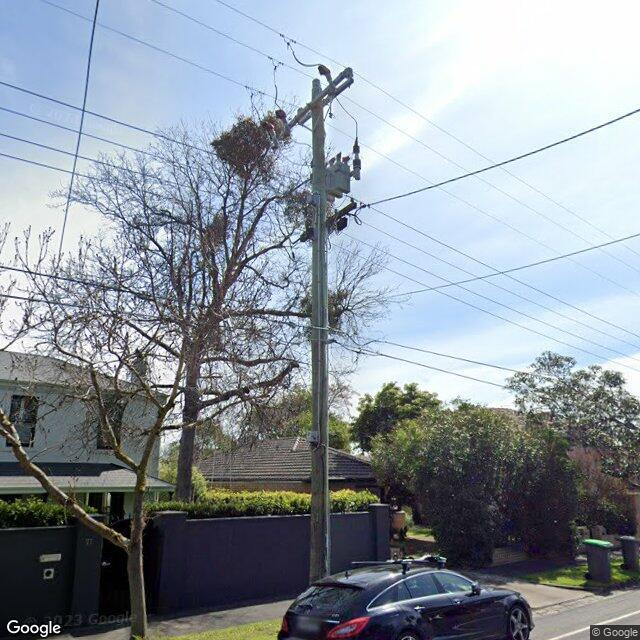HV-transmission: (284, 65, 353, 132)
crossarm: (289, 72, 344, 127), (298, 79, 354, 124), (300, 202, 357, 242)
timber-pole: (309, 79, 330, 587)
transformer: (310, 152, 350, 202)
